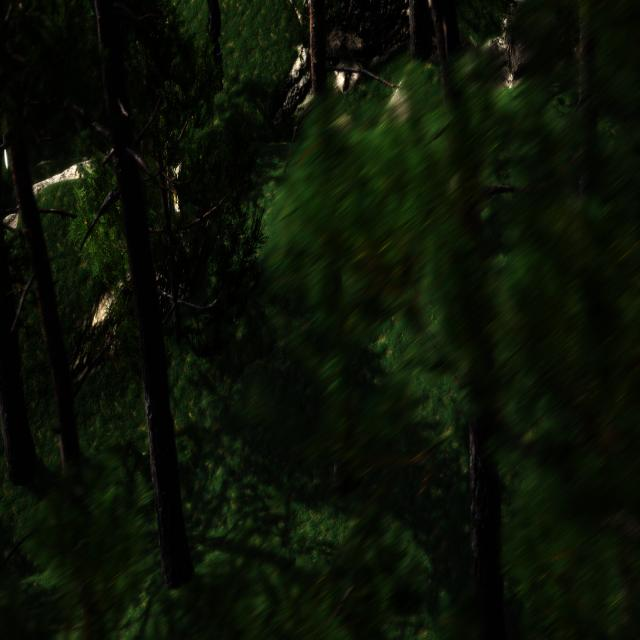Human: (204, 0, 226, 102)
